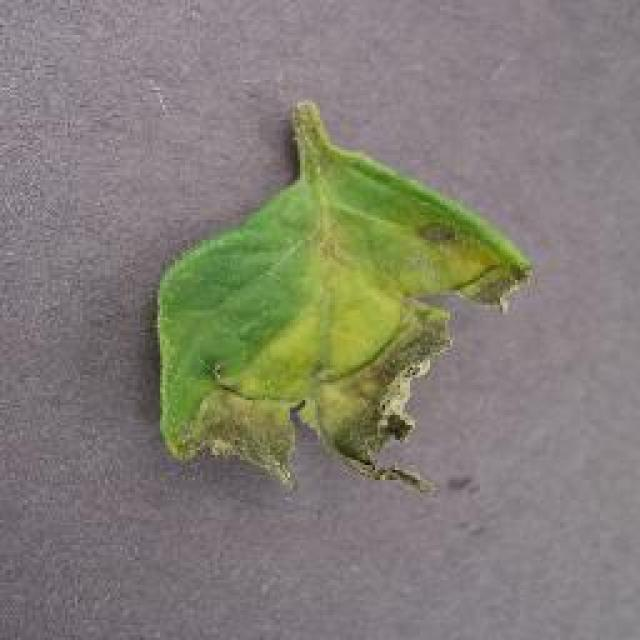Tomato Late Blight: (162, 248, 540, 532)
